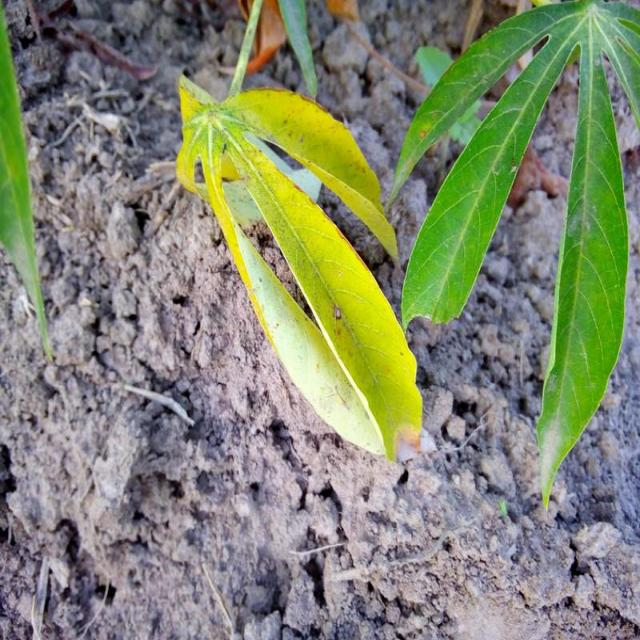cassava leaf: (388, 0, 638, 509), (174, 69, 424, 463)
